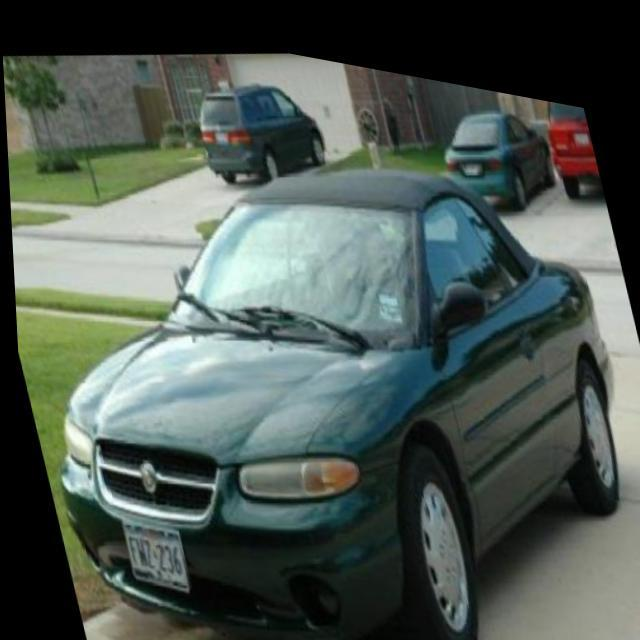license_plate: (118, 512, 186, 596)
